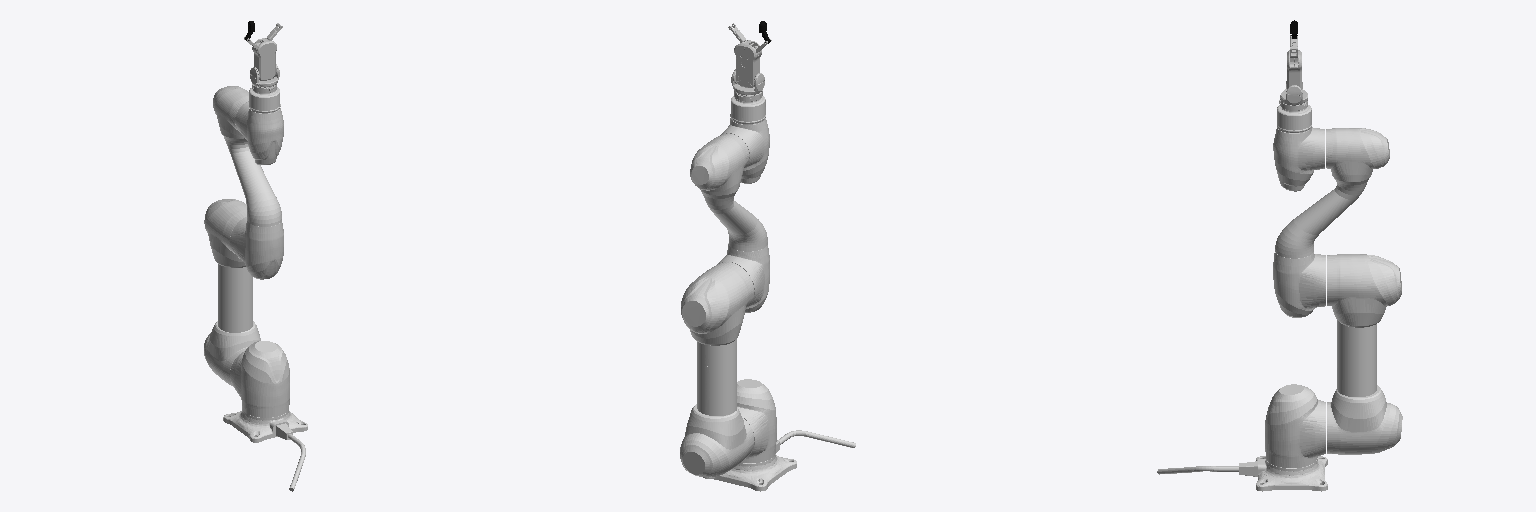
robot.urdf — m0609_rg2:
<?xml version='1.0' encoding='utf-8'?>
<robot name="m0609_rg2">
  <link name="base_link">
    <inertial>
      <mass value="3.18" />
      <origin xyz="-2.8e-05   -0.006045    0.038403" />
      <inertia ixx="0.017789" ixy="-7.4356e-06" ixz="3.0378e-06" iyy="0.011135" iyz="-0.00029038" izz="0.020054" />
    </inertial>
    <collision>
      <origin rpy="0 0 0" xyz="0 0 0" />
      <geometry>
        <mesh filename="package://m0609_rg2_sim_model/meshes/base_link_collision_0.stl" scale="1 1 1" />
      </geometry>
    </collision>
    <visual>
      <origin rpy="0 0 0" xyz="0 0 0" />
      <geometry>
        <mesh filename="package://m0609_rg2_sim_model/meshes/base_link_visual_0.stl" scale="1 1 1" />
      </geometry>
      <material name="base_link_visual_0_material">
        <color rgba="0.85 0.85 0.85 1" />
      </material>
    </visual>
  </link>
  <link name="base" />
  <joint name="base_link-base" type="fixed">
    <origin rpy="0 0 0" xyz="0 0 0.450" />
    <parent link="base_link" />
    <child link="base" />
  </joint>
  <joint name="joint_1" type="revolute">
    <parent link="base_link" />
    <child link="link_1" />
    <origin rpy="0 0 0" xyz="0 0 0.1345" />
    <axis xyz="0 0 1" />
    <limit effort="163" lower="-6.2832" upper="6.2832" velocity="2.618" />
    <dynamics friction="0" />
  </joint>
  <link name="link_1">
    <inertial>
      <mass value="5.02" />
      <origin xyz="7.2e-05    0.036227   -0.003417" />
      <inertia ixx="0.026195" ixy="2.3904e-05" ixz="-1.3319e-05" iyy="0.016899" iyz="-0.00071987" izz="0.022944" />
    </inertial>
    <collision>
      <origin rpy="0 0 0" xyz="0 0 0" />
      <geometry>
        <mesh filename="package://m0609_rg2_sim_model/meshes/link_1_collision_0.stl" scale="1 1 1" />
      </geometry>
    </collision>
    <visual>
      <origin rpy="0 0 0" xyz="0 0 0" />
      <geometry>
        <mesh filename="package://m0609_rg2_sim_model/meshes/link_1_visual_0.stl" scale="1 1 1" />
      </geometry>
      <material name="link_1_visual_0_material">
        <color rgba="0.85 0.85 0.85 1" />
      </material>
    </visual>
  </link>
  <joint name="joint_2" type="revolute">
    <parent link="link_1" />
    <child link="link_2" />
    <origin rpy="0 -1.571 -1.571" xyz="0 0.0062 0" />
    <axis xyz="0 0 1" />
    <limit effort="163" lower="-6.2832" upper="6.2832" velocity="2.618" />
    <dynamics friction="0" />
  </joint>
  <link name="link_2">
    <inertial>
      <mass value="8.04" />
      <origin xyz="0.20447     2.6e-05     0.16005" />
      <inertia ixx="0.026743" ixy="-0.00019461" ixz="-0.00058734" iyy="0.30084" iyz="-6.7892e-06" izz="0.29898" />
    </inertial>
    <collision>
      <origin rpy="0 0 0" xyz="0 0 0" />
      <geometry>
        <mesh filename="package://m0609_rg2_sim_model/meshes/link_2_collision_0.stl" scale="1 1 1" />
      </geometry>
    </collision>
    <visual>
      <origin rpy="0 0 0" xyz="0 0 0" />
      <geometry>
        <mesh filename="package://m0609_rg2_sim_model/meshes/link_2_visual_0.stl" scale="1 1 1" />
      </geometry>
      <material name="link_2_visual_0_material">
        <color rgba="0.85 0.85 0.85 1" />
      </material>
    </visual>
    <collision>
      <origin rpy="0 0 0" xyz="0 0 0" />
      <geometry>
        <mesh filename="package://m0609_rg2_sim_model/meshes/link_2_collision_1.stl" scale="1 1 1" />
      </geometry>
    </collision>
    <visual>
      <origin rpy="0 0 0" xyz="0 0 0" />
      <geometry>
        <mesh filename="package://m0609_rg2_sim_model/meshes/link_2_visual_1.stl" scale="1 1 1" />
      </geometry>
      <material name="link_2_visual_1_material">
        <color rgba="0.85 0.85 0.85 1" />
      </material>
    </visual>
    <collision>
      <origin rpy="0 0 0" xyz="0 0 0" />
      <geometry>
        <mesh filename="package://m0609_rg2_sim_model/meshes/link_2_collision_2.stl" scale="1 1 1" />
      </geometry>
    </collision>
    <visual>
      <origin rpy="0 0 0" xyz="0 0 0" />
      <geometry>
        <mesh filename="package://m0609_rg2_sim_model/meshes/link_2_visual_2.stl" scale="1 1 1" />
      </geometry>
      <material name="link_2_visual_2_material">
        <color rgba="0.85 0.85 0.85 1" />
      </material>
    </visual>
  </link>
  <joint name="joint_3" type="revolute">
    <parent link="link_2" />
    <child link="link_3" />
    <origin rpy="0 0 1.571" xyz="0.411 0 0" />
    <axis xyz="0 0 1" />
    <limit effort="96" lower="-2.618" upper="2.618" velocity="3.1416" />
    <dynamics friction="0" />
  </joint>
  <link name="link_3">
    <inertial>
      <mass value="3.6" />
      <origin xyz="-2.2e-05   -0.006867    0.043445" />
      <inertia ixx="0.018342" ixy="1.1302e-05" ixz="-4.5308e-06" iyy="0.018239" iyz="-0.00099247" izz="0.01326" />
    </inertial>
    <collision>
      <origin rpy="0 0 0" xyz="0 0 0" />
      <geometry>
        <mesh filename="package://m0609_rg2_sim_model/meshes/link_3_collision_0.stl" scale="1 1 1" />
      </geometry>
    </collision>
    <visual>
      <origin rpy="0 0 0" xyz="0 0 0" />
      <geometry>
        <mesh filename="package://m0609_rg2_sim_model/meshes/link_3_visual_0.stl" scale="1 1 1" />
      </geometry>
      <material name="link_3_visual_0_material">
        <color rgba="0.85 0.85 0.85 1" />
      </material>
    </visual>
  </link>
  <joint name="joint_4" type="revolute">
    <parent link="link_3" />
    <child link="link_4" />
    <origin rpy="1.571 0 0" xyz="0 -0.368 0" />
    <axis xyz="0 0 1" />
    <limit effort="50" lower="-6.2832" upper="6.2832" velocity="3.927" />
    <dynamics friction="0" />
  </joint>
  <link name="link_4">
    <inertial>
      <mass value="3.57" />
      <origin xyz="4e-05    0.097079    -0.10981" />
      <inertia ixx="0.08035" ixy="-4.6119e-06" ixz="-8.1798e-06" iyy="0.066005" iyz="-0.028996" izz="0.029763" />
    </inertial>
    <collision>
      <origin rpy="0 0 0" xyz="0 0 0" />
      <geometry>
        <mesh filename="package://m0609_rg2_sim_model/meshes/link_4_collision_0.stl" scale="1 1 1" />
      </geometry>
    </collision>
    <visual>
      <origin rpy="0 0 0" xyz="0 0 0" />
      <geometry>
        <mesh filename="package://m0609_rg2_sim_model/meshes/link_4_visual_0.stl" scale="1 1 1" />
      </geometry>
      <material name="link_4_visual_0_material">
        <color rgba="0.85 0.85 0.85 1" />
      </material>
    </visual>
    <collision>
      <origin rpy="0 0 0" xyz="0 0 0" />
      <geometry>
        <mesh filename="package://m0609_rg2_sim_model/meshes/link_4_collision_1.stl" scale="1 1 1" />
      </geometry>
    </collision>
    <visual>
      <origin rpy="0 0 0" xyz="0 0 0" />
      <geometry>
        <mesh filename="package://m0609_rg2_sim_model/meshes/link_4_visual_1.stl" scale="1 1 1" />
      </geometry>
      <material name="link_4_visual_1_material">
        <color rgba="0.85 0.85 0.85 1" />
      </material>
    </visual>
  </link>
  <joint name="joint_5" type="revolute">
    <parent link="link_4" />
    <child link="link_5" />
    <origin rpy="-1.571 0 0" xyz="0 0 0" />
    <axis xyz="0 0 1" />
    <limit effort="50" lower="-6.2832" upper="6.2832" velocity="3.927" />
    <dynamics friction="0" />
  </joint>
  <link name="link_5">
    <inertial>
      <mass value="2.83" />
      <origin xyz="-6.8e-05    0.003827    0.031969" />
      <inertia ixx="0.014275" ixy="2.2026e-05" ixz="3.3017e-06" iyy="0.012569" iyz="0.00045077" izz="0.0085318" />
    </inertial>
    <collision>
      <origin rpy="0 0 0" xyz="0 0 0" />
      <geometry>
        <mesh filename="package://m0609_rg2_sim_model/meshes/link_5_collision_0.stl" scale="1 1 1" />
      </geometry>
    </collision>
    <visual>
      <origin rpy="0 0 0" xyz="0 0 0" />
      <geometry>
        <mesh filename="package://m0609_rg2_sim_model/meshes/link_5_visual_0.stl" scale="1 1 1" />
      </geometry>
      <material name="link_5_visual_0_material">
        <color rgba="0.85 0.85 0.85 1" />
      </material>
    </visual>
  </link>
  <joint name="joint_6" type="revolute">
    <parent link="link_5" />
    <child link="link_6" />
    <origin rpy="1.571 0 0" xyz="0 -0.121 0" />
    <axis xyz="0 0 1" />
    <limit effort="50" lower="-6.2832" upper="6.2832" velocity="3.927" />
    <dynamics friction="0" />
  </joint>
  <link name="link_6">
    <inertial>
      <mass value="1.16" />
      <origin xyz="-3e-05    -4.5e-05     -0.0539" />
      <inertia ixx="0.0080226" ixy="1.371e-06" ixz="6.3578e-06" iyy="0.0053992" iyz="7.4676e-06" izz="0.0053912" />
    </inertial>
    <collision>
      <origin rpy="0 0 0" xyz="0 0 0" />
      <geometry>
        <mesh filename="package://m0609_rg2_sim_model/meshes/link_6_collision_0.stl" scale="1 1 1" />
      </geometry>
    </collision>
    <visual>
      <origin rpy="0 0 0" xyz="0 0 0" />
      <geometry>
        <mesh filename="package://m0609_rg2_sim_model/meshes/link_6_visual_0.stl" scale="1 1 1" />
      </geometry>
      <material name="link_6_visual_0_material">
        <color rgba="0.85 0.85 0.85 1" />
      </material>
    </visual>
  </link>
  <link name="tool0" />
  <joint name="joint_6-tool0" type="fixed">
    <origin rpy="3.1415926535 -1.570796327 0" xyz="0 0 0" />
    <parent link="link_6" />
    <child link="tool0" />
  </joint>
  <link name="rg2_base_link">
    <inertial>
      <origin rpy="0 0 0" xyz="0.0 0.0 0.0" />
      <mass value="0.7" />
      <inertia ixx="1.0E-03" ixy="1.0E-06" ixz="1.0E-06" iyy="1.0E-03" iyz="1.0E-06" izz="1.0E-03" />
    </inertial>
    <visual>
      <origin rpy="0 0 0" xyz="0 0 0" />
      <geometry>
        <mesh filename="package://m0609_rg2_sim_model/meshes/rg2_base_link_visual_0.stl" scale="1 1 1" />
      </geometry>
      <material name="rg2_base_link_visual_0_material">
        <color rgba="0.8 0.8 0.8 1" />
      </material>
    </visual>
    <collision>
      <origin rpy="0 0 0" xyz="0 0 0" />
      <geometry>
        <mesh filename="package://m0609_rg2_sim_model/meshes/rg2_base_link_collision_0.stl" scale="1 1 1" />
      </geometry>
    </collision>
  </link>
  <joint name="joint0" type="fixed">
    <parent link="tool0" />
    <child link="rg2_base_link" />
    <origin rpy="1.5708 0 1.5708" xyz="0. 0. 0." />
  </joint>
  <link name="rg2_left_outer_knuckle">
    <inertial>
      <origin rpy="0 0 0" xyz="0.0 0.0 0.0" />
      <mass value="0.05" />
      <inertia ixx="1.0E-03" ixy="1.0E-06" ixz="1.0E-06" iyy="1.0E-03" iyz="1.0E-06" izz="1.0E-03" />
    </inertial>
    <visual>
      <origin rpy="0 0 0" xyz="0 0 0" />
      <geometry>
        <mesh filename="package://m0609_rg2_sim_model/meshes/rg2_left_outer_knuckle_visual_0.stl" scale="1 1 1" />
      </geometry>
      <material name="rg2_left_outer_knuckle_visual_0_material">
        <color rgba="0.8 0.8 0.8 1" />
      </material>
    </visual>
    <collision>
      <origin rpy="0 0 0" xyz="0 0 0" />
      <geometry>
        <mesh filename="package://m0609_rg2_sim_model/meshes/rg2_left_outer_knuckle_collision_0.stl" scale="1 1 1" />
      </geometry>
      <sdf resolution="512" />
    </collision>
  </link>
  <link name="rg2_left_inner_knuckle">
    <inertial>
      <origin rpy="0 0 0" xyz="0.0 0.0 0.0" />
      <mass value="0.05" />
      <inertia ixx="1.0E-03" ixy="1.0E-06" ixz="1.0E-06" iyy="1.0E-03" iyz="1.0E-06" izz="1.0E-03" />
    </inertial>
    <visual>
      <origin rpy="0 0 0" xyz="0 0 0" />
      <geometry>
        <mesh filename="package://m0609_rg2_sim_model/meshes/rg2_left_inner_knuckle_visual_0.stl" scale="1 1 1" />
      </geometry>
      <material name="rg2_left_inner_knuckle_visual_0_material">
        <color rgba="0.8 0.8 0.8 1" />
      </material>
    </visual>
    <collision>
      <origin rpy="0 0 0" xyz="0 0 0" />
      <geometry>
        <mesh filename="package://m0609_rg2_sim_model/meshes/rg2_left_inner_knuckle_collision_0.stl" scale="1 1 1" />
      </geometry>
      <sdf resolution="512" />
    </collision>
  </link>
  <link name="rg2_left_inner_finger">
    <inertial>
      <origin rpy="0 0 0" xyz="0.0 0.0 0.0" />
      <mass value="0.05" />
      <inertia ixx="1.0E-03" ixy="1.0E-06" ixz="1.0E-06" iyy="1.0E-03" iyz="1.0E-06" izz="1.0E-03" />
    </inertial>
    <visual>
      <origin rpy="0 0 0" xyz="0 0 0" />
      <geometry>
        <mesh filename="package://m0609_rg2_sim_model/meshes/rg2_left_inner_finger_visual_0.stl" scale="1 1 1" />
      </geometry>
      <material name="rg2_left_inner_finger_visual_0_material">
        <color rgba="0.1 0.1 0.1 1" />
      </material>
    </visual>
    <collision>
      <origin rpy="0 0 0" xyz="0 0 0" />
      <geometry>
        <mesh filename="package://m0609_rg2_sim_model/meshes/rg2_left_inner_finger_collision_0.stl" scale="1 1 1" />
      </geometry>
      <sdf resolution="512" />
    </collision>
  </link>
  <link name="rg2_right_outer_knuckle">
    <inertial>
      <origin rpy="0 0 0" xyz="0.0 0.0 0.0" />
      <mass value="0.05" />
      <inertia ixx="1.0E-03" ixy="1.0E-06" ixz="1.0E-06" iyy="1.0E-03" iyz="1.0E-06" izz="1.0E-03" />
    </inertial>
    <visual>
      <origin rpy="0 0 0" xyz="0 0 0" />
      <geometry>
        <mesh filename="package://m0609_rg2_sim_model/meshes/rg2_right_outer_knuckle_visual_0.stl" scale="1 1 1" />
      </geometry>
      <material name="rg2_right_outer_knuckle_visual_0_material">
        <color rgba="0.8 0.8 0.8 1" />
      </material>
    </visual>
    <collision>
      <origin rpy="0 0 0" xyz="0 0 0" />
      <geometry>
        <mesh filename="package://m0609_rg2_sim_model/meshes/rg2_right_outer_knuckle_collision_0.stl" scale="1 1 1" />
      </geometry>
      <sdf resolution="512" />
    </collision>
  </link>
  <link name="rg2_right_inner_knuckle">
    <inertial>
      <origin rpy="0 0 0" xyz="0.0 0.0 0.0" />
      <mass value="0.05" />
      <inertia ixx="1.0E-03" ixy="1.0E-06" ixz="1.0E-06" iyy="1.0E-03" iyz="1.0E-06" izz="1.0E-03" />
    </inertial>
    <visual>
      <origin rpy="0 0 0" xyz="0 0 0" />
      <geometry>
        <mesh filename="package://m0609_rg2_sim_model/meshes/rg2_right_inner_knuckle_visual_0.stl" scale="1 1 1" />
      </geometry>
      <material name="rg2_right_inner_knuckle_visual_0_material">
        <color rgba="0.8 0.8 0.8 1" />
      </material>
    </visual>
    <collision>
      <origin rpy="0 0 0" xyz="0 0 0" />
      <geometry>
        <mesh filename="package://m0609_rg2_sim_model/meshes/rg2_right_inner_knuckle_collision_0.stl" scale="1 1 1" />
      </geometry>
      <sdf resolution="512" />
    </collision>
  </link>
  <link name="rg2_right_inner_finger">
    <inertial>
      <origin rpy="0 0 0" xyz="0.0 0.0 0.0" />
      <mass value="0.05" />
      <inertia ixx="1.0E-03" ixy="1.0E-06" ixz="1.0E-06" iyy="1.0E-03" iyz="1.0E-06" izz="1.0E-03" />
    </inertial>
    <visual>
      <origin rpy="0 0 0" xyz="0 0 0" />
      <geometry>
        <mesh filename="package://m0609_rg2_sim_model/meshes/rg2_right_inner_finger_visual_0.stl" scale="1 1 1" />
      </geometry>
      <material name="rg2_right_inner_finger_visual_0_material">
        <color rgba="0.1 0.1 0.1 1" />
      </material>
    </visual>
    <collision>
      <origin rpy="0 0 0" xyz="0 0 0" />
      <geometry>
        <mesh filename="package://m0609_rg2_sim_model/meshes/rg2_right_inner_finger_collision_0.stl" scale="1 1 1" />
      </geometry>
      <sdf resolution="512" />
    </collision>
  </link>
  <joint name="rg2_finger_joint" type="revolute">
    <origin rpy="0 0 0" xyz="0 -0.017178 0.125797" />
    <parent link="rg2_base_link" />
    <child link="rg2_left_outer_knuckle" />
    <axis xyz="-1 0 0" />
    <limit effort="1000" lower="-0.558505" upper="0.785398" velocity="100.0" />
  </joint>
  <joint name="rg2_left_inner_knuckle_joint" type="revolute">
    <origin rpy="0 0 0.0" xyz="0 -0.007678 0.1422970" />
    <parent link="rg2_base_link" />
    <child link="rg2_left_inner_knuckle" />
    <axis xyz="1 0 0" />
    <limit effort="1000" lower="-0.785398" upper="0.785398" velocity="100.0" />
    <mimic joint="rg2_finger_joint" multiplier="-1" offset="0" />
  </joint>
  <joint name="rg2_left_inner_finger_joint" type="revolute">
    <origin rpy="0 0 0" xyz="0 -0.039592 0.038177000000000016" />
    <parent link="rg2_left_outer_knuckle" />
    <child link="rg2_left_inner_finger" />
    <axis xyz="1 0 0" />
    <limit effort="1000" lower="-0.872665" upper="0.872665" velocity="100.0" />
    <mimic joint="rg2_finger_joint" multiplier="1" offset="0" />
  </joint>
  <joint name="rg2_right_outer_knuckle_joint" type="revolute">
    <parent link="rg2_base_link" />
    <child link="rg2_right_outer_knuckle" />
    <origin rpy="0 0 3.141592653589793" xyz="0 0.017178 0.125797" />
    <axis xyz="1 0 0" />
    <limit effort="1000" lower="-0.785398" upper="0.785398" velocity="100.0" />
    <mimic joint="rg2_finger_joint" multiplier="-1" offset="0" />
  </joint>
  <joint name="rg2_right_inner_knuckle_joint" type="revolute">
    <origin rpy="0 0 -3.141592653589793" xyz="0 0.007678 0.1422970" />
    <parent link="rg2_base_link" />
    <child link="rg2_right_inner_knuckle" />
    <axis xyz="1 0 0" />
    <limit effort="1000" lower="-0.785398" upper="0.785398" velocity="100.0" />
    <mimic joint="rg2_finger_joint" multiplier="-1" offset="0" />
  </joint>
  <joint name="rg2_right_inner_finger_joint" type="revolute">
    <origin rpy="0 0 0" xyz="0 -0.039592 0.038177000000000016" />
    <parent link="rg2_right_outer_knuckle" />
    <child link="rg2_right_inner_finger" />
    <axis xyz="1 0 0" />
    <limit effort="1000" lower="-0.872665" upper="0.872665" velocity="100.0" />
    <mimic joint="rg2_finger_joint" multiplier="1" offset="0" />
  </joint>
  <link name="world" />
  <joint name="preview_world_base" type="fixed">
    <parent link="world" />
    <child link="base_link" />
    <origin xyz="0 0 0" rpy="0 0 0" />
  </joint>
  <link name="GripperDA_v4_tcp" />
  <joint name="link_6_to_GripperDA_v4_tcp" type="fixed">
    <parent link="link_6" />
    <child link="GripperDA_v4_tcp" />
    <origin xyz="0.0 0.0 0.228" rpy="0 0 0" />
  </joint>
</robot>

--- Facts derived from the render (not from the file) ---
Views: 3 orthographic renders of the robot side by side, from view 1: azimuth 30°, elevation 25°; view 2: azimuth 150°, elevation 25°; view 3: azimuth 270°, elevation 25°.
Model m0609_rg2 with 18 links and 17 joints (12 revolute, 5 fixed), rooted at world, posed all joints at 0.
Visible links, largest first — view 1: link_2, link_4, link_1, link_3, link_5, base_link, rg2_base_link, link_6; view 2: link_2, link_4, link_1, base_link, rg2_base_link, link_5, link_3, link_6; view 3: link_2, link_4, link_1, link_3, base_link, link_5, rg2_base_link, link_6.
Boxes of the visible links, x1=… form: link_2: x1=204, y1=199, x2=260, y2=386; link_4: x1=213, y1=86, x2=281, y2=226; link_1: x1=230, y1=341, x2=289, y2=417; link_3: x1=230, y1=217, x2=283, y2=279; link_5: x1=235, y1=102, x2=283, y2=164; base_link: x1=223, y1=409, x2=307, y2=491; rg2_base_link: x1=250, y1=38, x2=279, y2=92; link_6: x1=249, y1=87, x2=280, y2=113; link_2: x1=680, y1=262, x2=754, y2=477; link_4: x1=690, y1=133, x2=767, y2=251; link_1: x1=737, y1=379, x2=776, y2=462; base_link: x1=703, y1=430, x2=855, y2=491; rg2_base_link: x1=731, y1=40, x2=764, y2=101; link_5: x1=720, y1=118, x2=769, y2=183; link_3: x1=717, y1=243, x2=769, y2=312; link_6: x1=730, y1=96, x2=765, y2=124; link_2: x1=1327, y1=254, x2=1402, y2=454; link_4: x1=1275, y1=128, x2=1389, y2=258; link_1: x1=1265, y1=384, x2=1325, y2=467; link_3: x1=1273, y1=252, x2=1325, y2=317; base_link: x1=1157, y1=456, x2=1327, y2=491; link_5: x1=1273, y1=127, x2=1324, y2=191; rg2_base_link: x1=1279, y1=50, x2=1307, y2=110; link_6: x1=1277, y1=105, x2=1311, y2=132.
Bounding box of the posed robot: 0.2064 × 0.6202 × 1.3 m (x, y, z).
Meshes: 17 distinct files referenced, 14 mesh visuals loaded (14 binary STL); not drawn: 3 (reference not matched to a file when rendering).
